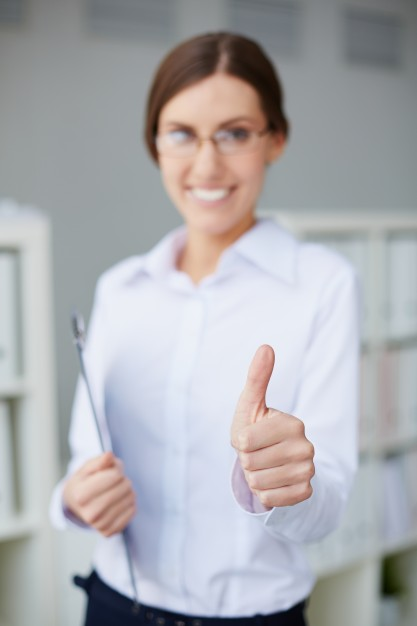thumbsup: (235, 344, 316, 508)
